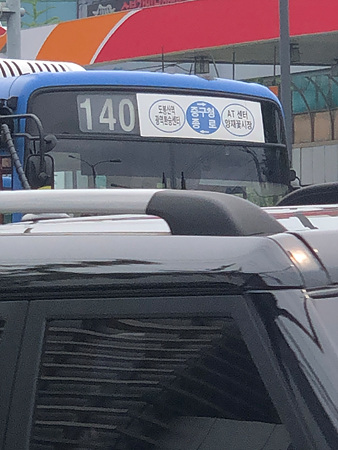bnum: (76, 96, 139, 133)
